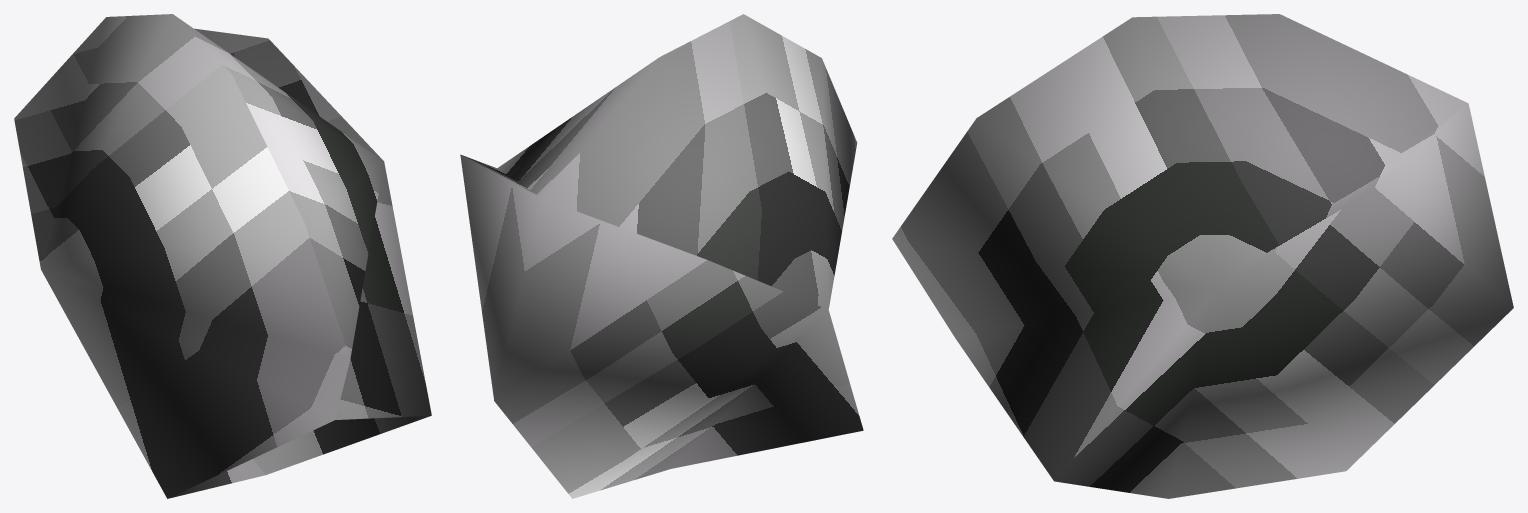
File: poi_protocol_droid_head_l3.fbx
3 views of the same model, side by side, from view 1: azimuth 30°, elevation 25°; view 2: azimuth 150°, elevation 25°; view 3: azimuth 270°, elevation 25° (orthographic). The views are drawn at different scales.
Visible parts, largest first — view 1: mesh_node; view 2: mesh_node; view 3: mesh_node.
Part boxes in pixels (x1,y1,x2,y2): mesh_node: (14,14,431,498); mesh_node: (460,14,863,498); mesh_node: (892,14,1513,498).
Size of the model in its own units: 0.2074 by 0.2629 by 0.3197.
